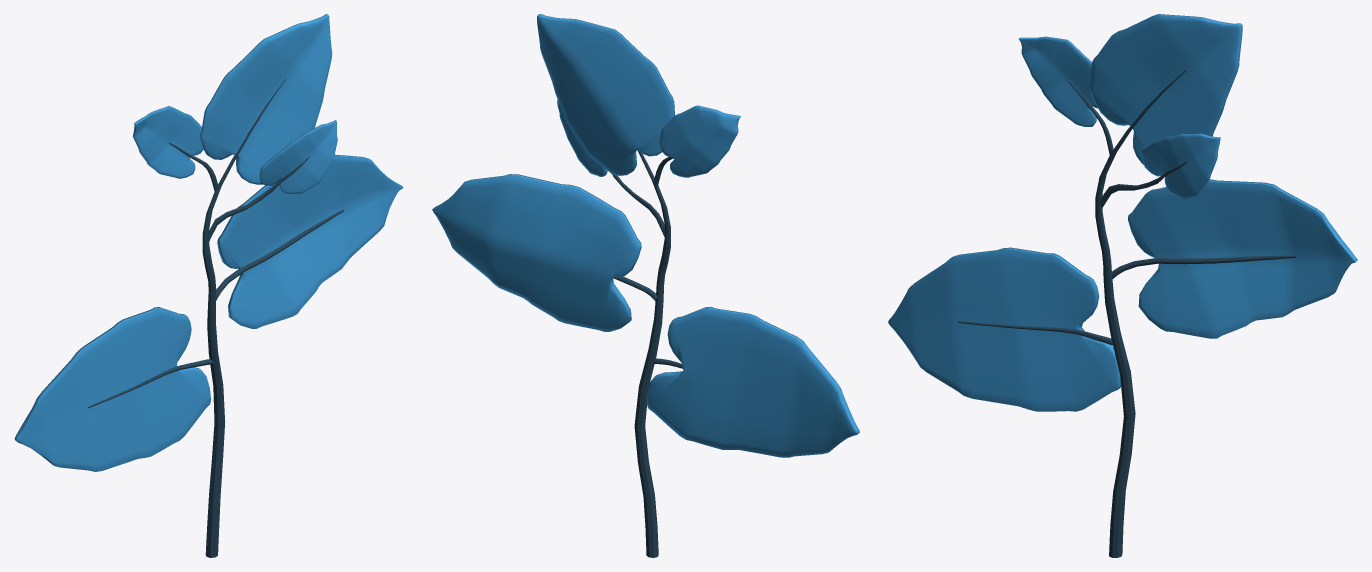
File: Blue_Peppermint_Model.fbx
3 views of the same model, side by side, from view 1: azimuth 30°, elevation 25°; view 2: azimuth 150°, elevation 25°; view 3: azimuth 330°, elevation 25° (orthographic). The views are drawn at different scales.
Parts seen in each view (by area): view 1: Leaf_01, Leaf_02, Leaf_03, MainStem, Leaf_04, Leaf_05, Stem_03, Stem_02, Stem_04; view 2: Leaf_01, Leaf_02, Leaf_03, Leaf_04, MainStem, Leaf_05; view 3: Leaf_01, Leaf_02, Leaf_03, MainStem, Leaf_04, Leaf_05, Stem_03, Stem_04.
Boxes of the visible parts, left/top/right/bottom form: Leaf_01: left=14, top=307, right=211, bottom=471; Leaf_02: left=217, top=154, right=403, bottom=328; Leaf_03: left=200, top=14, right=332, bottom=184; MainStem: left=202, top=79, right=285, bottom=557; Leaf_04: left=133, top=106, right=203, bottom=178; Leaf_05: left=259, top=120, right=337, bottom=193; Stem_03: left=216, top=210, right=343, bottom=300; Stem_02: left=209, top=157, right=309, bottom=240; Stem_04: left=88, top=359, right=214, bottom=408; Leaf_01: left=647, top=306, right=859, bottom=457; Leaf_02: left=432, top=174, right=641, bottom=331; Leaf_03: left=537, top=14, right=674, bottom=175; Leaf_04: left=659, top=105, right=740, bottom=177; MainStem: left=634, top=151, right=670, bottom=557; Leaf_05: left=557, top=100, right=607, bottom=176; Leaf_01: left=888, top=247, right=1120, bottom=411; Leaf_02: left=1128, top=179, right=1357, bottom=338; Leaf_03: left=1090, top=14, right=1242, bottom=164; MainStem: left=1095, top=70, right=1186, bottom=557; Leaf_04: left=1019, top=36, right=1097, bottom=126; Leaf_05: left=1141, top=133, right=1220, bottom=199; Stem_03: left=1112, top=255, right=1296, bottom=278; Stem_04: left=958, top=321, right=1113, bottom=345.
Size of the model in its own units: 1.88 by 2.26 by 0.3124.
